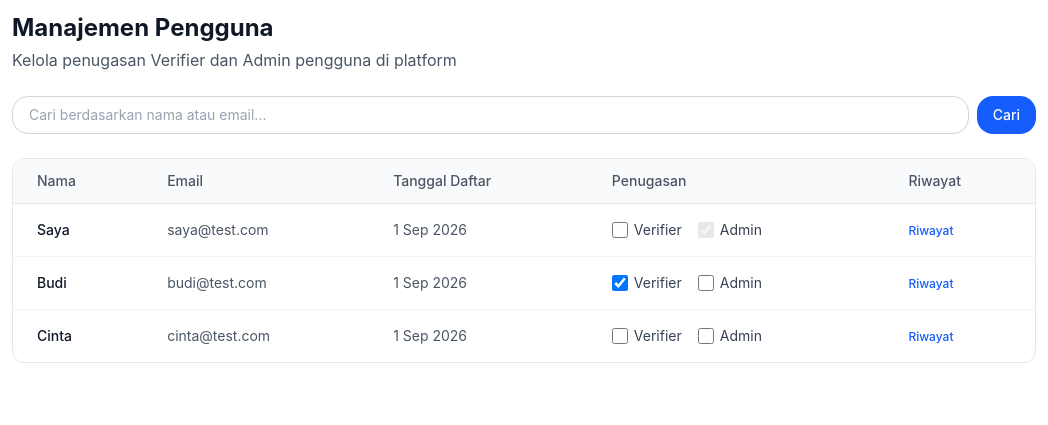
AdminUsersPage › does not let a slow response for one user overwrite the trail of the user opened after it
Click the button "Riwayat" in the row of "budi@test.com" at (931,284), box [908, 276, 954, 292]
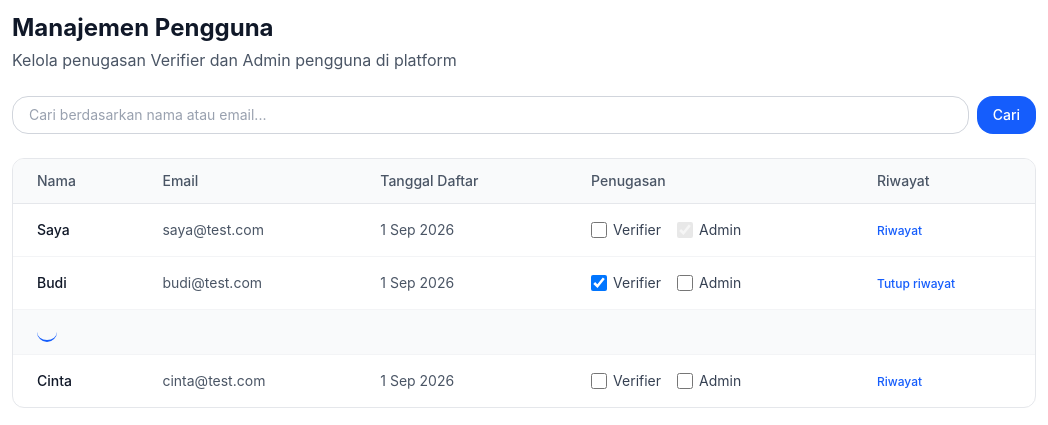
Click the button "Riwayat" in the row of "cinta@test.com" at (900,382), box [877, 374, 922, 390]
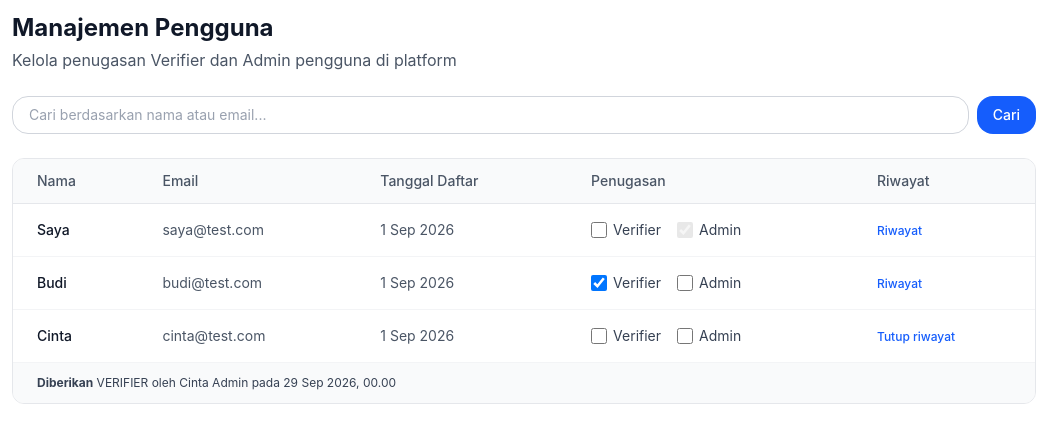
Expected: the number of list items is 1, [37, 375, 396, 390]
Expected: the list named "riwayat penugasan cinta" shows "Cinta Admin", [179, 375, 248, 390]
